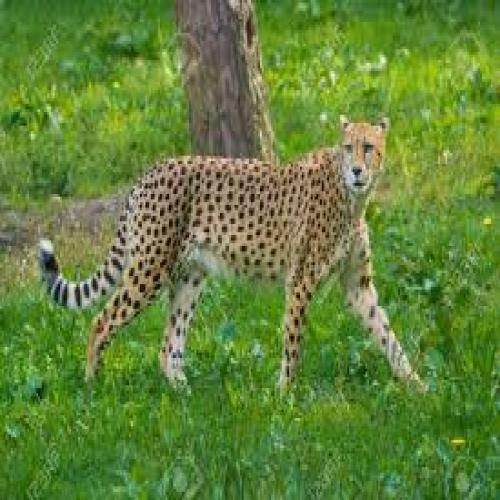cheetah-endangered: (41, 114, 430, 396)
